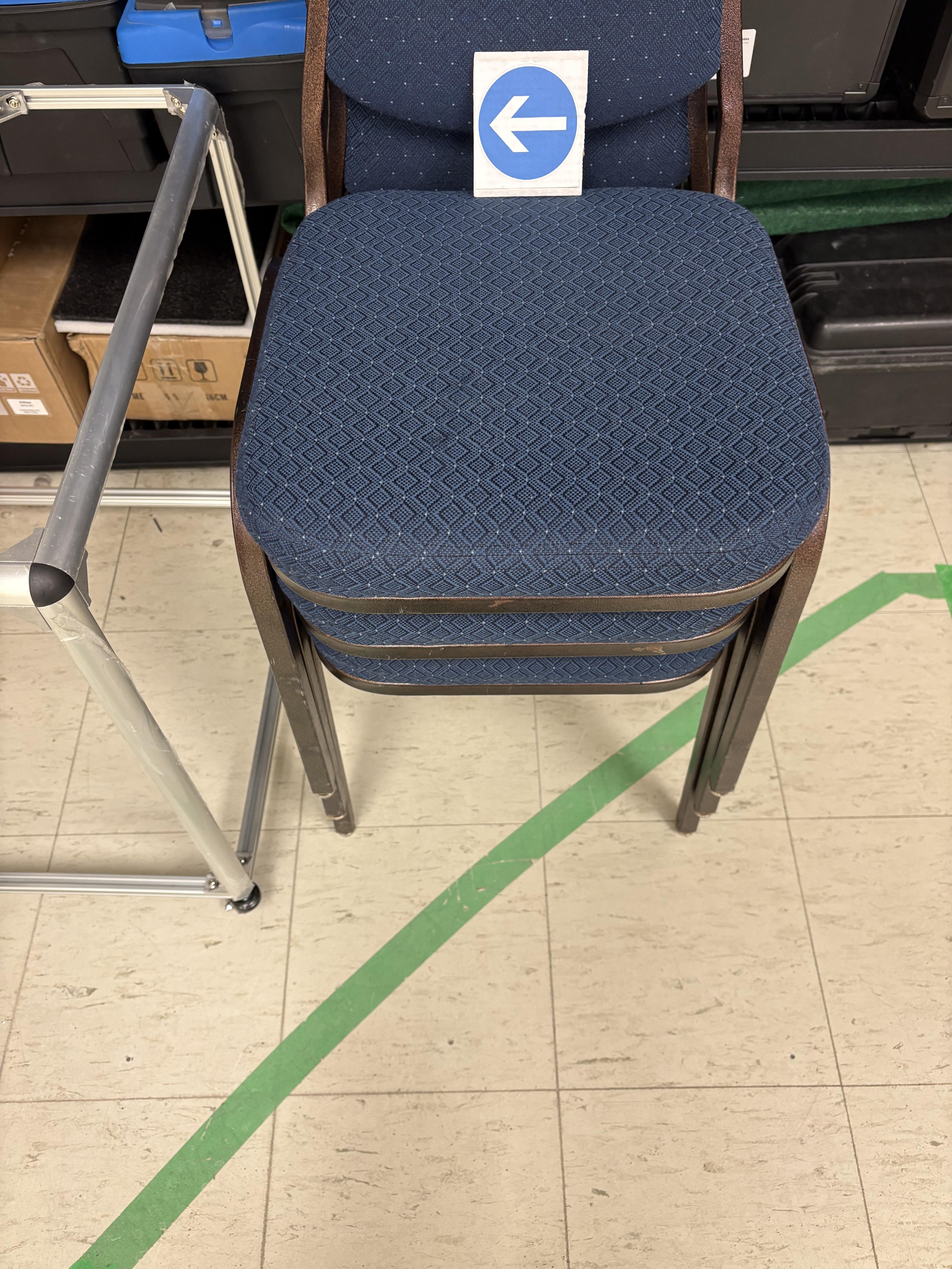Proceed Left: (355, 68, 440, 257)
